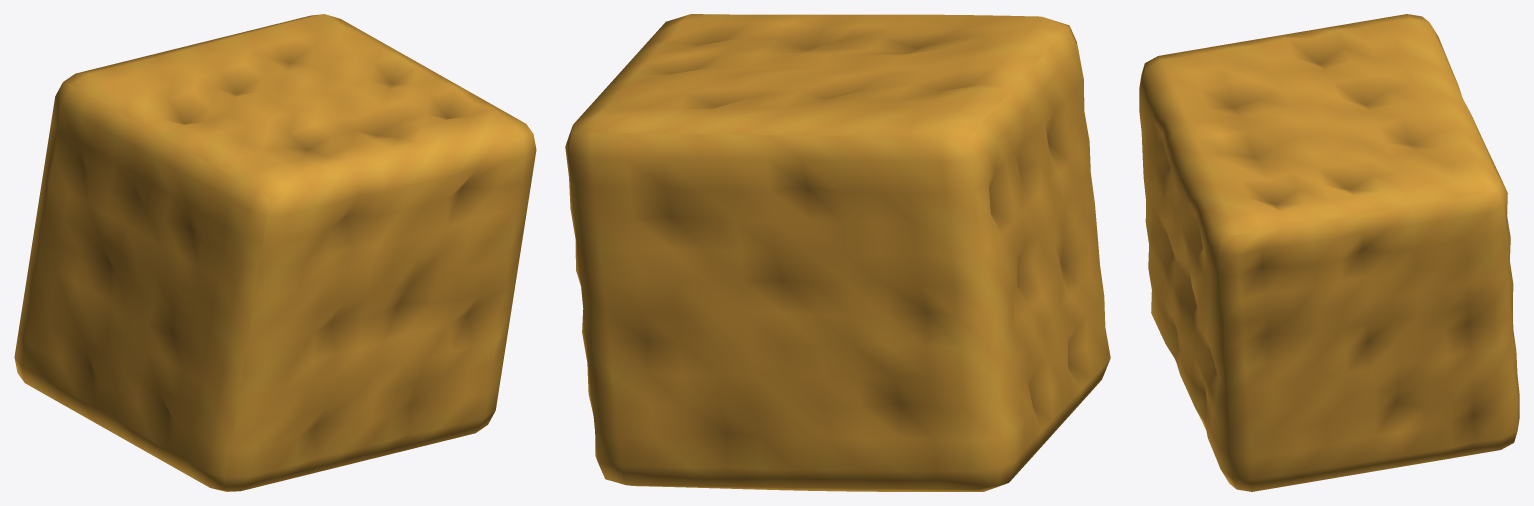
The model's file is freeze_dried.glb.
3 views of the same model, side by side, from view 1: azimuth 30°, elevation 25°; view 2: azimuth 150°, elevation 25°; view 3: azimuth 270°, elevation 25° (orthographic). The views are drawn at different scales.
Visible parts, largest first — view 1: freeze_dried_Mesh; view 2: freeze_dried_Mesh; view 3: freeze_dried_Mesh.
Boxes of the visible parts, left/top/right/bottom form: freeze_dried_Mesh: left=14, top=14, right=536, bottom=491; freeze_dried_Mesh: left=565, top=14, right=1110, bottom=491; freeze_dried_Mesh: left=1139, top=14, right=1519, bottom=491.
Size of the model in its own units: 0.3259 by 0.2762 by 0.2802.
